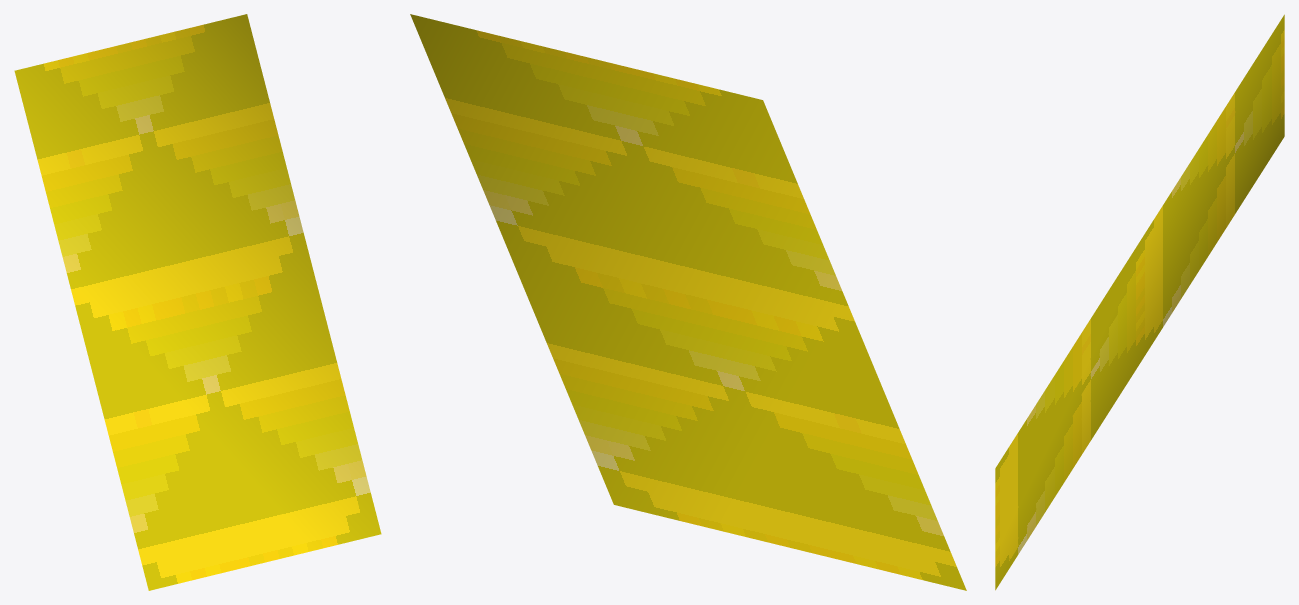
3 views of the same model, side by side, from view 1: azimuth 30°, elevation 25°; view 2: azimuth 150°, elevation 25°; view 3: azimuth 270°, elevation 25° (orthographic). The views are drawn at different scales.
Bounding box in the file's own units: 1 × 1.73 × 1.
1 material, 1 textured.
